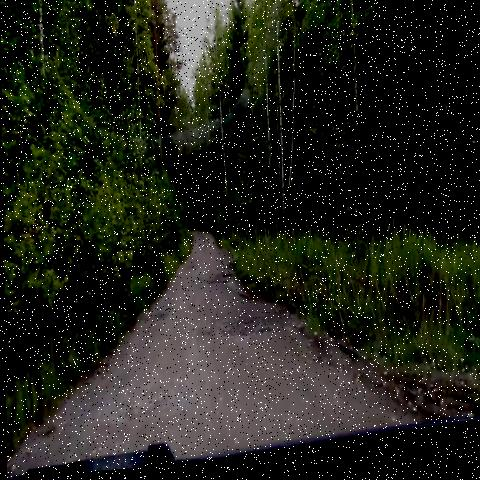pothole: (104, 357, 199, 441), (200, 305, 276, 365), (146, 301, 177, 341), (212, 260, 235, 302)
